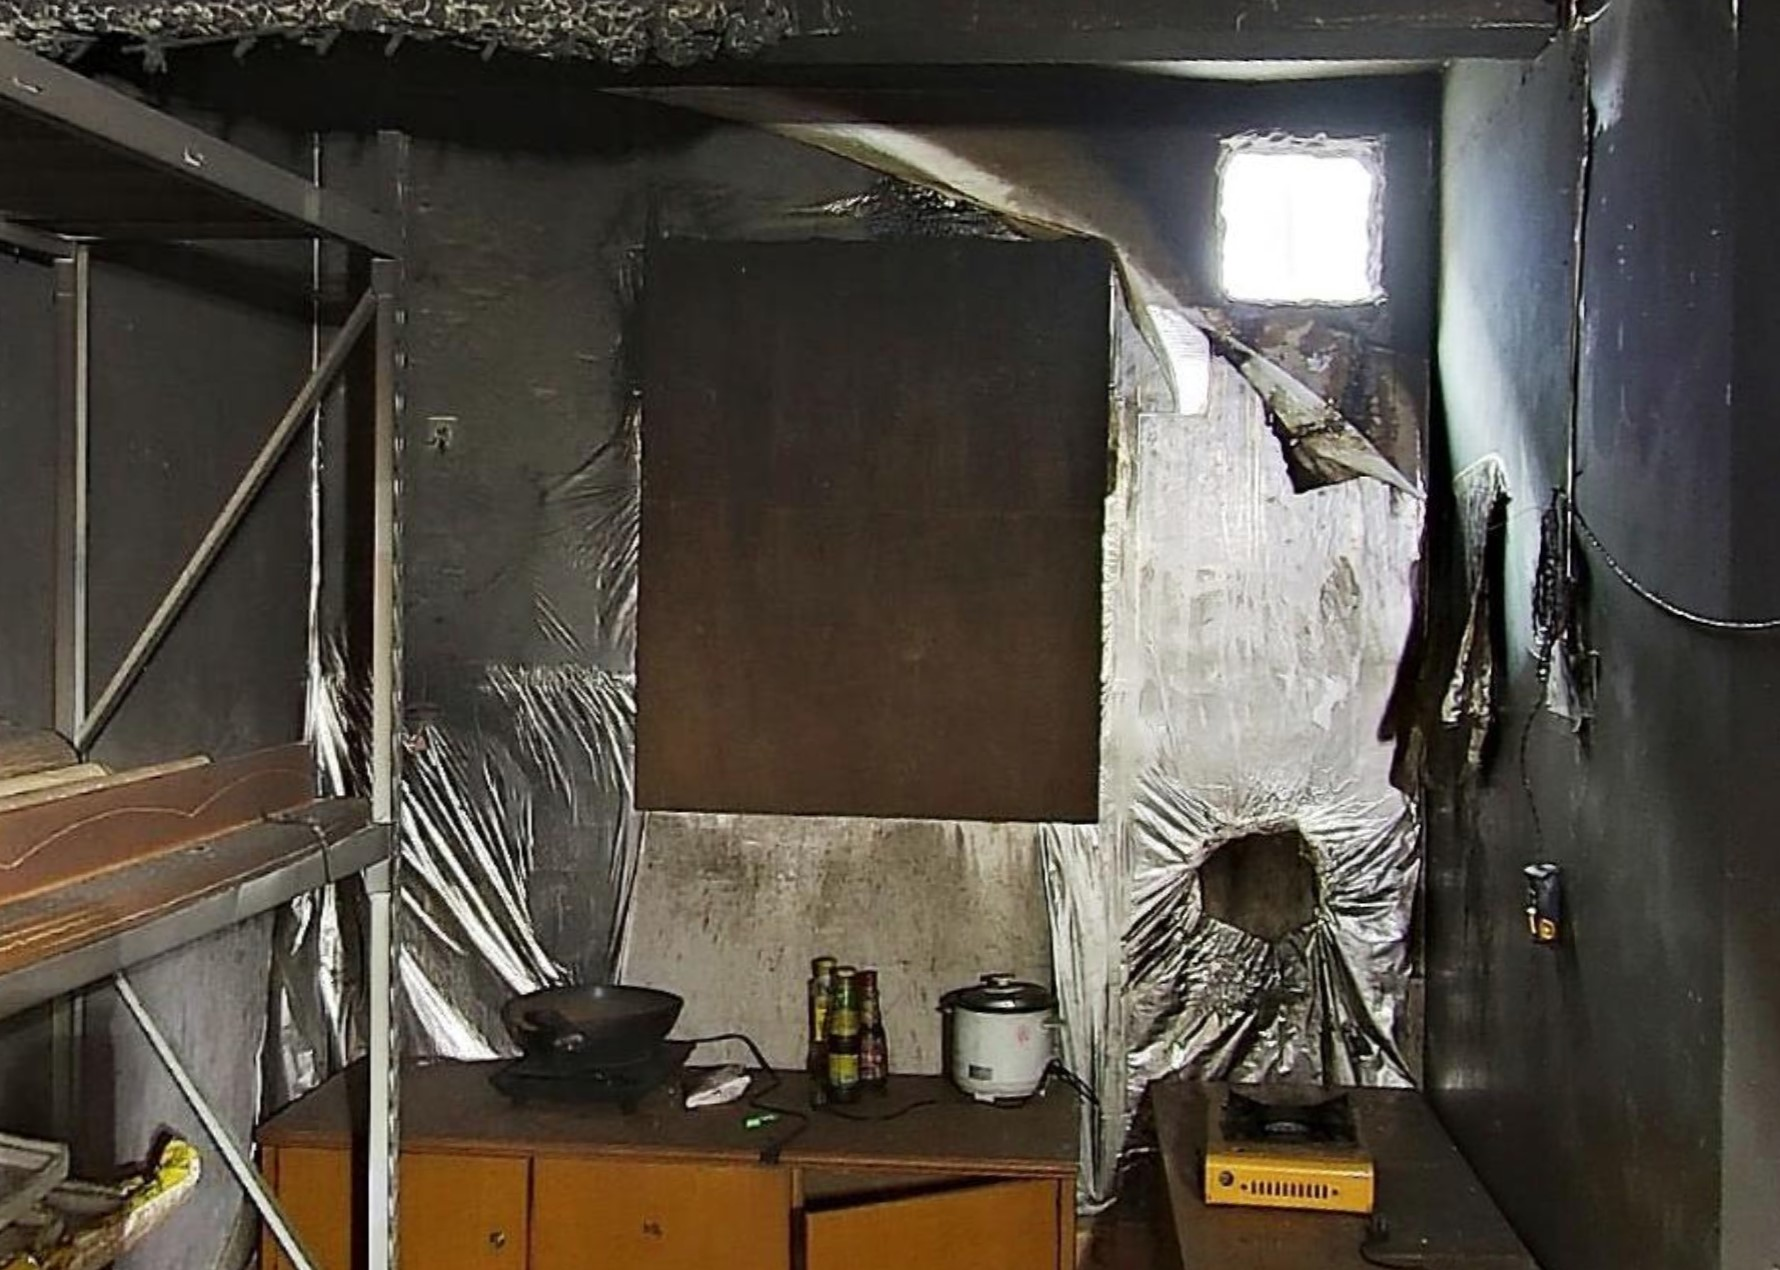Damage_level1: (1458, 126, 1699, 1226), (19, 238, 302, 753), (121, 37, 742, 153), (641, 812, 1024, 961), (1266, 323, 1417, 410), (1207, 848, 1314, 926)
